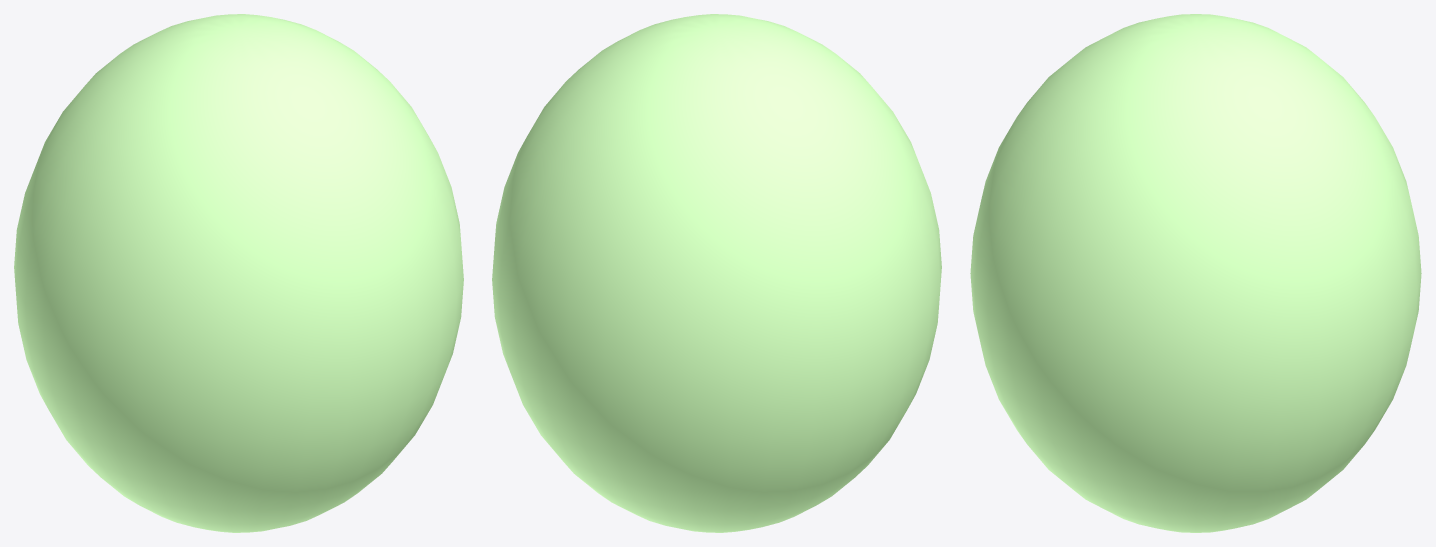
File: worm_segment.glb
3 views of the same model, side by side, from view 1: azimuth 30°, elevation 25°; view 2: azimuth 150°, elevation 25°; view 3: azimuth 270°, elevation 25° (orthographic).
Visible parts, largest first — view 1: Segment_0; view 2: Segment_0; view 3: Segment_0.
Boxes of the visible parts, left/top/right/bottom form: Segment_0: left=14, top=14, right=463, bottom=532; Segment_0: left=492, top=14, right=941, bottom=532; Segment_0: left=970, top=14, right=1421, bottom=532.
Bounding box in the file's own units: 1.05 × 1.24 × 1.05.
